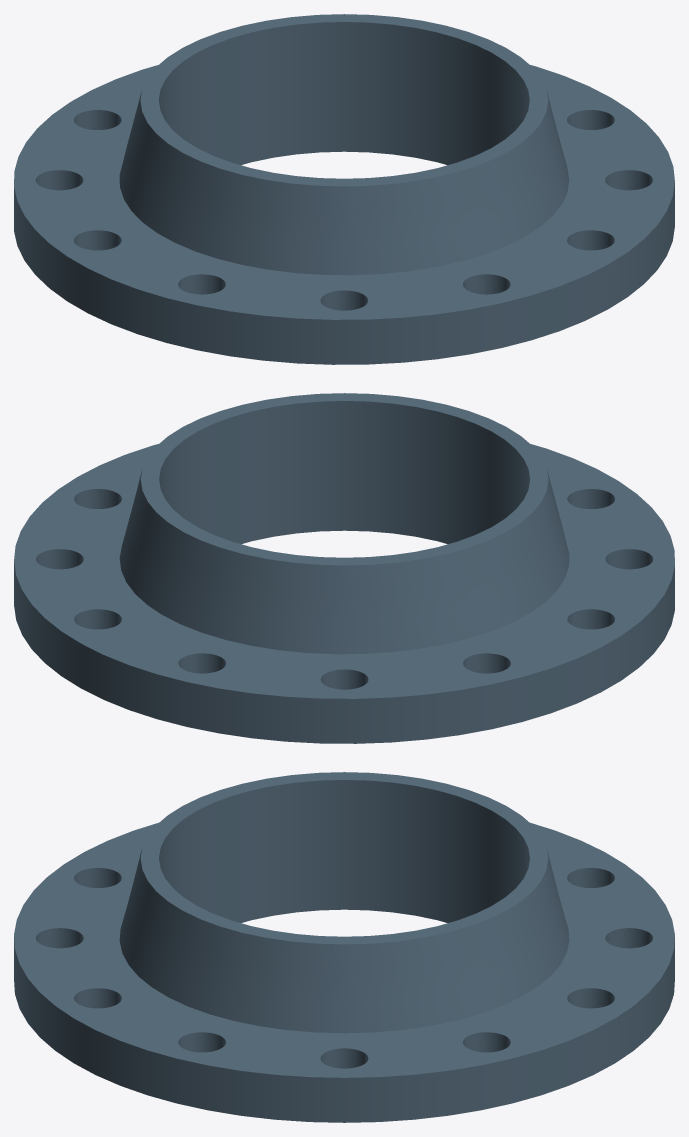
File: flanec-vorotnikovyj-DN200-PN25.glb
The picture shows the model from 3 angles, top to bottom: view 1: azimuth 30°, elevation 25°; view 2: azimuth 150°, elevation 25°; view 3: azimuth 270°, elevation 25°; orthographic projection.
Visible parts, largest first — view 1: Open CASCADE STEP translator 7.9 93; view 2: Open CASCADE STEP translator 7.9 93; view 3: Open CASCADE STEP translator 7.9 93.
Part boxes in pixels (left/top/right/bottom): Open CASCADE STEP translator 7.9 93: left=14, top=14, right=674, bottom=364; Open CASCADE STEP translator 7.9 93: left=14, top=393, right=674, bottom=743; Open CASCADE STEP translator 7.9 93: left=14, top=772, right=674, bottom=1122.
Bounding box in the file's own units: 360 × 78 × 360.
